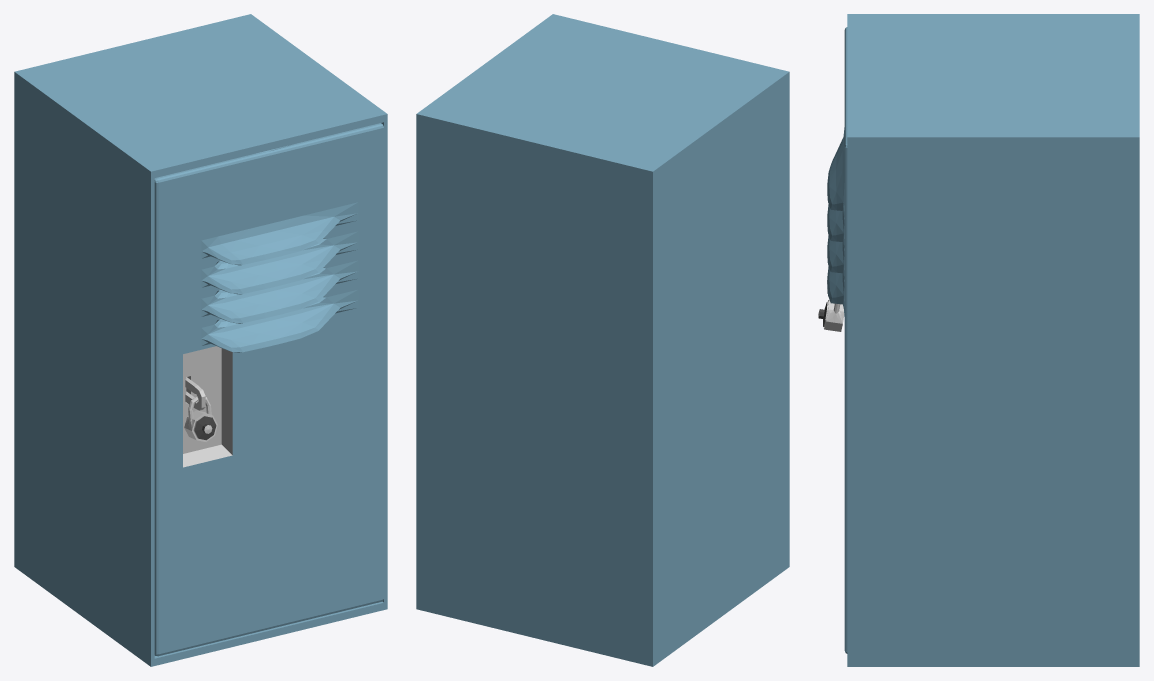
File: sweethome3d-blendswap-cc-0-locked-locker-97.glb
3 renders of one model, left to right at view 1: azimuth 30°, elevation 25°; view 2: azimuth 150°, elevation 25°; view 3: azimuth 270°, elevation 25°, orthographic. The views are drawn at different scales.
Visible parts, largest first — view 1: Cube; view 2: Cube; view 3: Cube.
Part boxes in pixels (bbox=[...]): Cube: bbox=[14, 14, 387, 666]; Cube: bbox=[416, 14, 789, 666]; Cube: bbox=[818, 14, 1139, 666].
Bounding box in the file's own units: 20 × 40 × 21.99.
